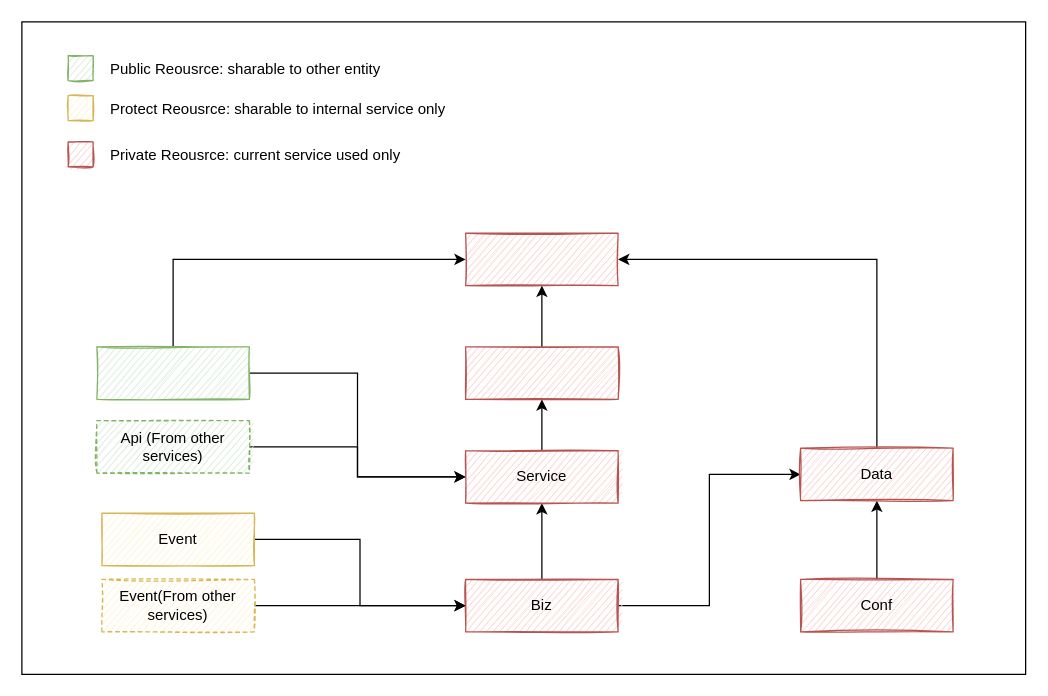
This 1048x696 diagram has some shape labels left out. The centre of each missing label's shape, as x and y in pixels:
Api: [172,372]
Host: [541,259]
Server: [541,372]
